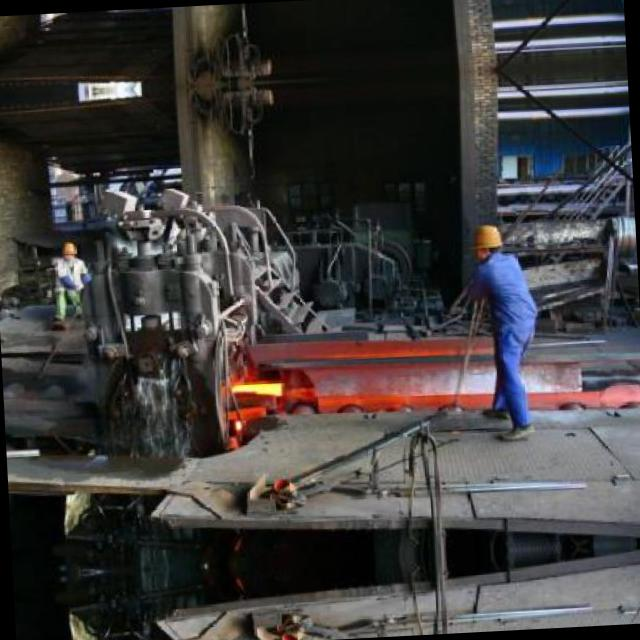helmet: (468, 220, 507, 266), (58, 236, 78, 264)
